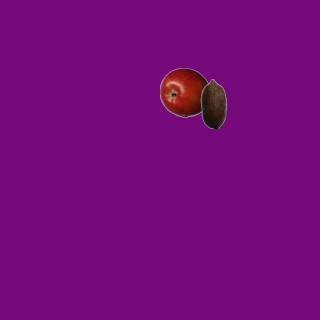Apple Braeburn: (159, 67, 209, 117)
Nut Pecan: (188, 78, 238, 128)
